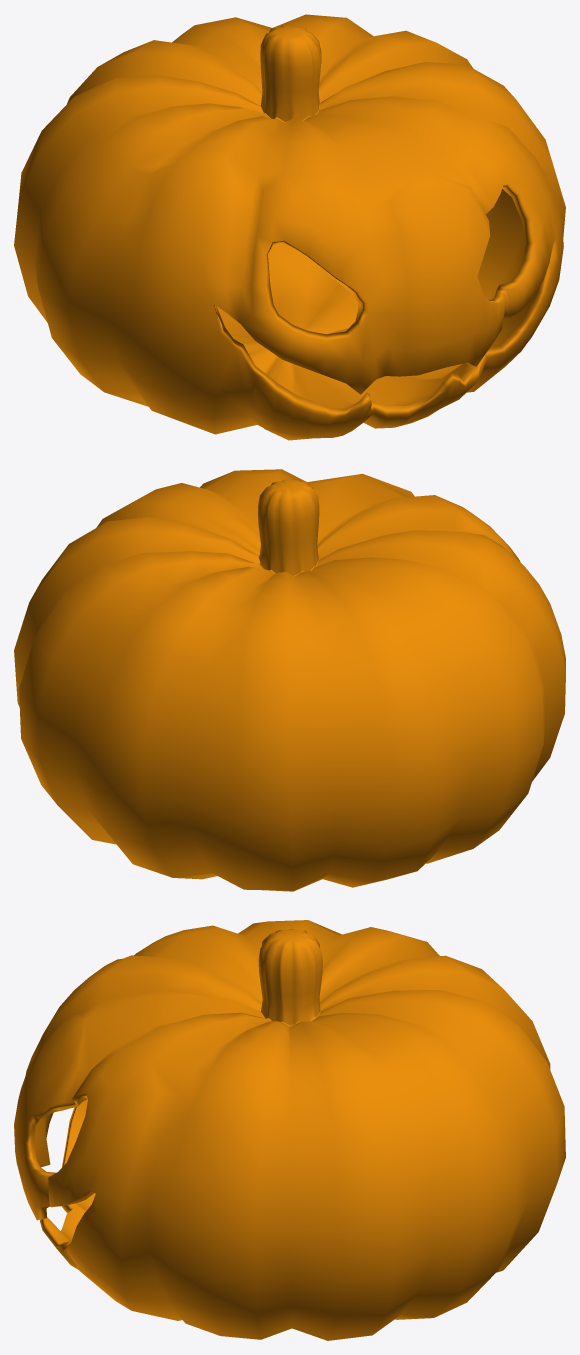
Rendered from Jack_O_Lantern_low.fbx.
3 views of the same model, one above another, from view 1: azimuth 30°, elevation 25°; view 2: azimuth 150°, elevation 25°; view 3: azimuth 270°, elevation 25° (orthographic).
Parts seen in each view (by area): view 1: Jack_O_Lantern; view 2: Jack_O_Lantern; view 3: Jack_O_Lantern.
Boxes of the visible parts, left/top/right/bottom form: Jack_O_Lantern: left=14, top=14, right=565, bottom=440; Jack_O_Lantern: left=14, top=469, right=565, bottom=891; Jack_O_Lantern: left=14, top=920, right=565, bottom=1340.
Size of the model in its own units: 2.13 by 1.45 by 2.14.
